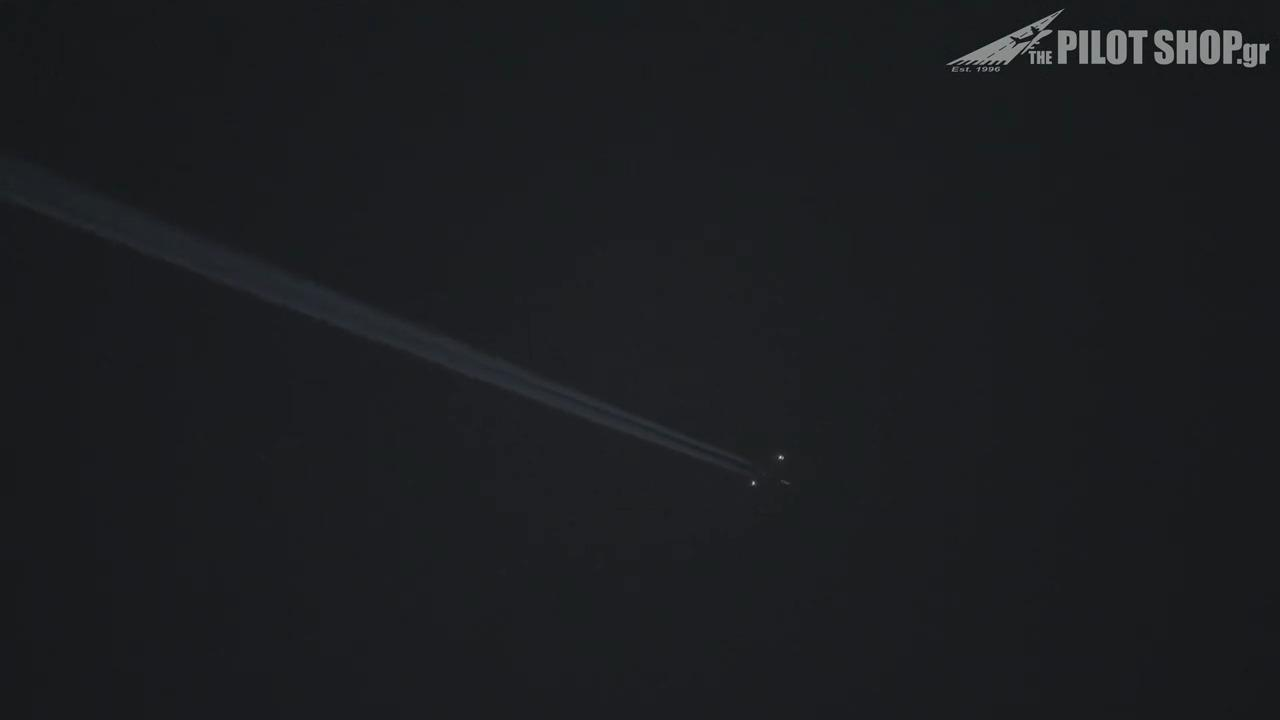Plane: (675, 444, 875, 500)
